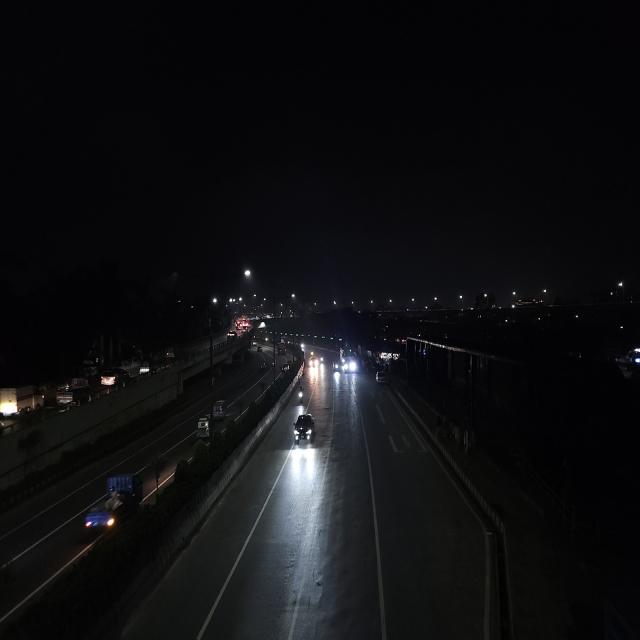bus: (341, 343, 359, 375)
car: (292, 411, 316, 448), (100, 367, 130, 389), (374, 368, 388, 387), (226, 330, 235, 342)
cng: (196, 411, 212, 439), (212, 397, 228, 419), (138, 355, 152, 377)
motorcycle: (296, 384, 305, 406)
pickup_van: (81, 467, 147, 536), (54, 378, 93, 412)
truck: (0, 382, 46, 418)
